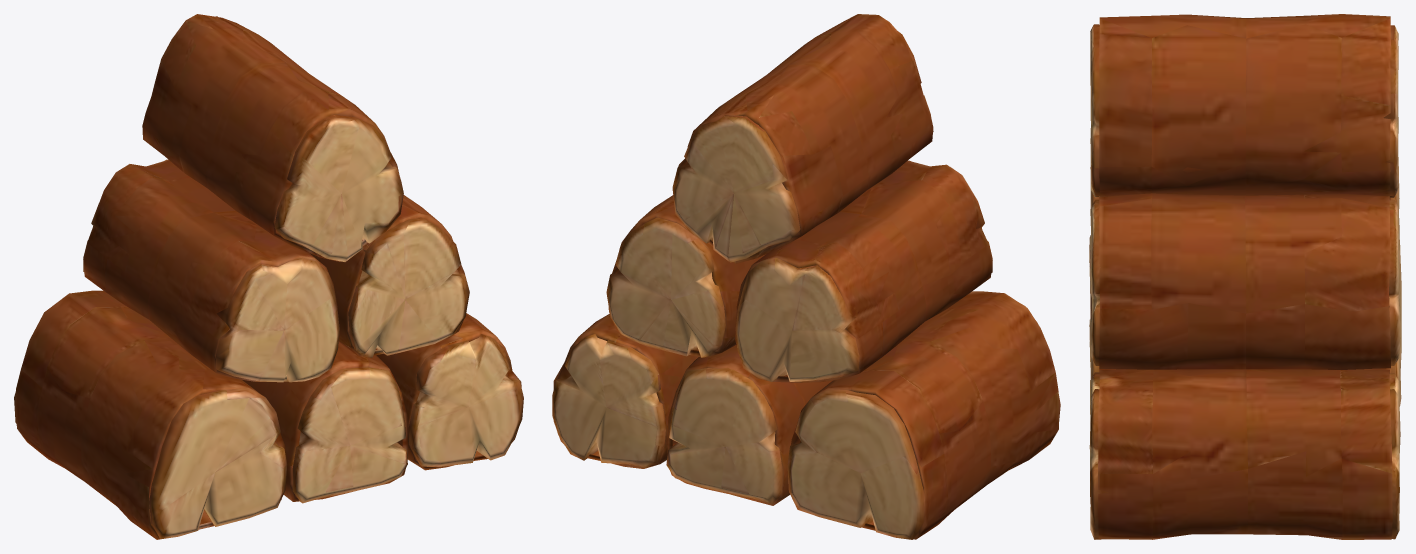
Rendered from woodpile.glb.
3 views of the same model, side by side, from view 1: azimuth 30°, elevation 25°; view 2: azimuth 150°, elevation 25°; view 3: azimuth 270°, elevation 25° (orthographic). The views are drawn at different scales.
Size of the model in its own units: 1 by 1 by 0.6548.
Materials: 1 (1 with a texture image).
